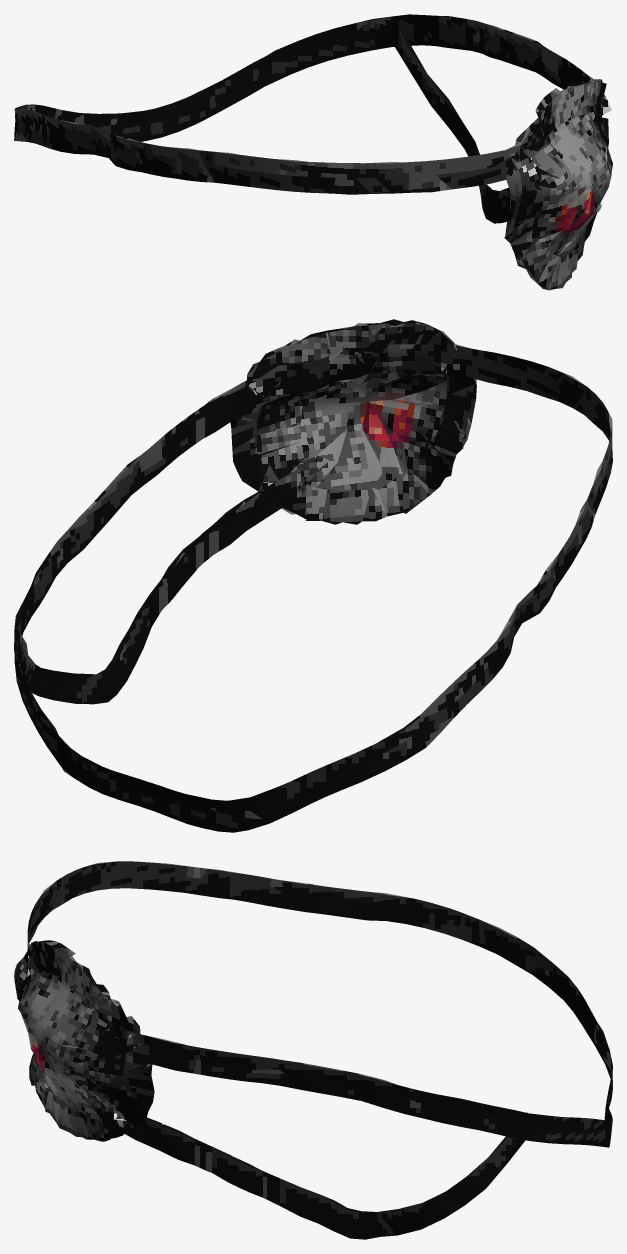
Rendered from wear_eyepatch.glb.
3 views of the same model, one above another, from view 1: azimuth 30°, elevation 25°; view 2: azimuth 150°, elevation 25°; view 3: azimuth 270°, elevation 25° (orthographic). The views are drawn at different scales.
Visible parts, largest first — view 1: mesh; view 2: mesh; view 3: mesh.
Part boxes in pixels (box(x1,y1,x2,y2)): mesh: box(14, 14, 612, 290); mesh: box(14, 319, 612, 832); mesh: box(14, 861, 612, 1239).
Size of the model in its own units: 0.1315 by 0.08 by 0.1766.
1 material, 1 textured.
